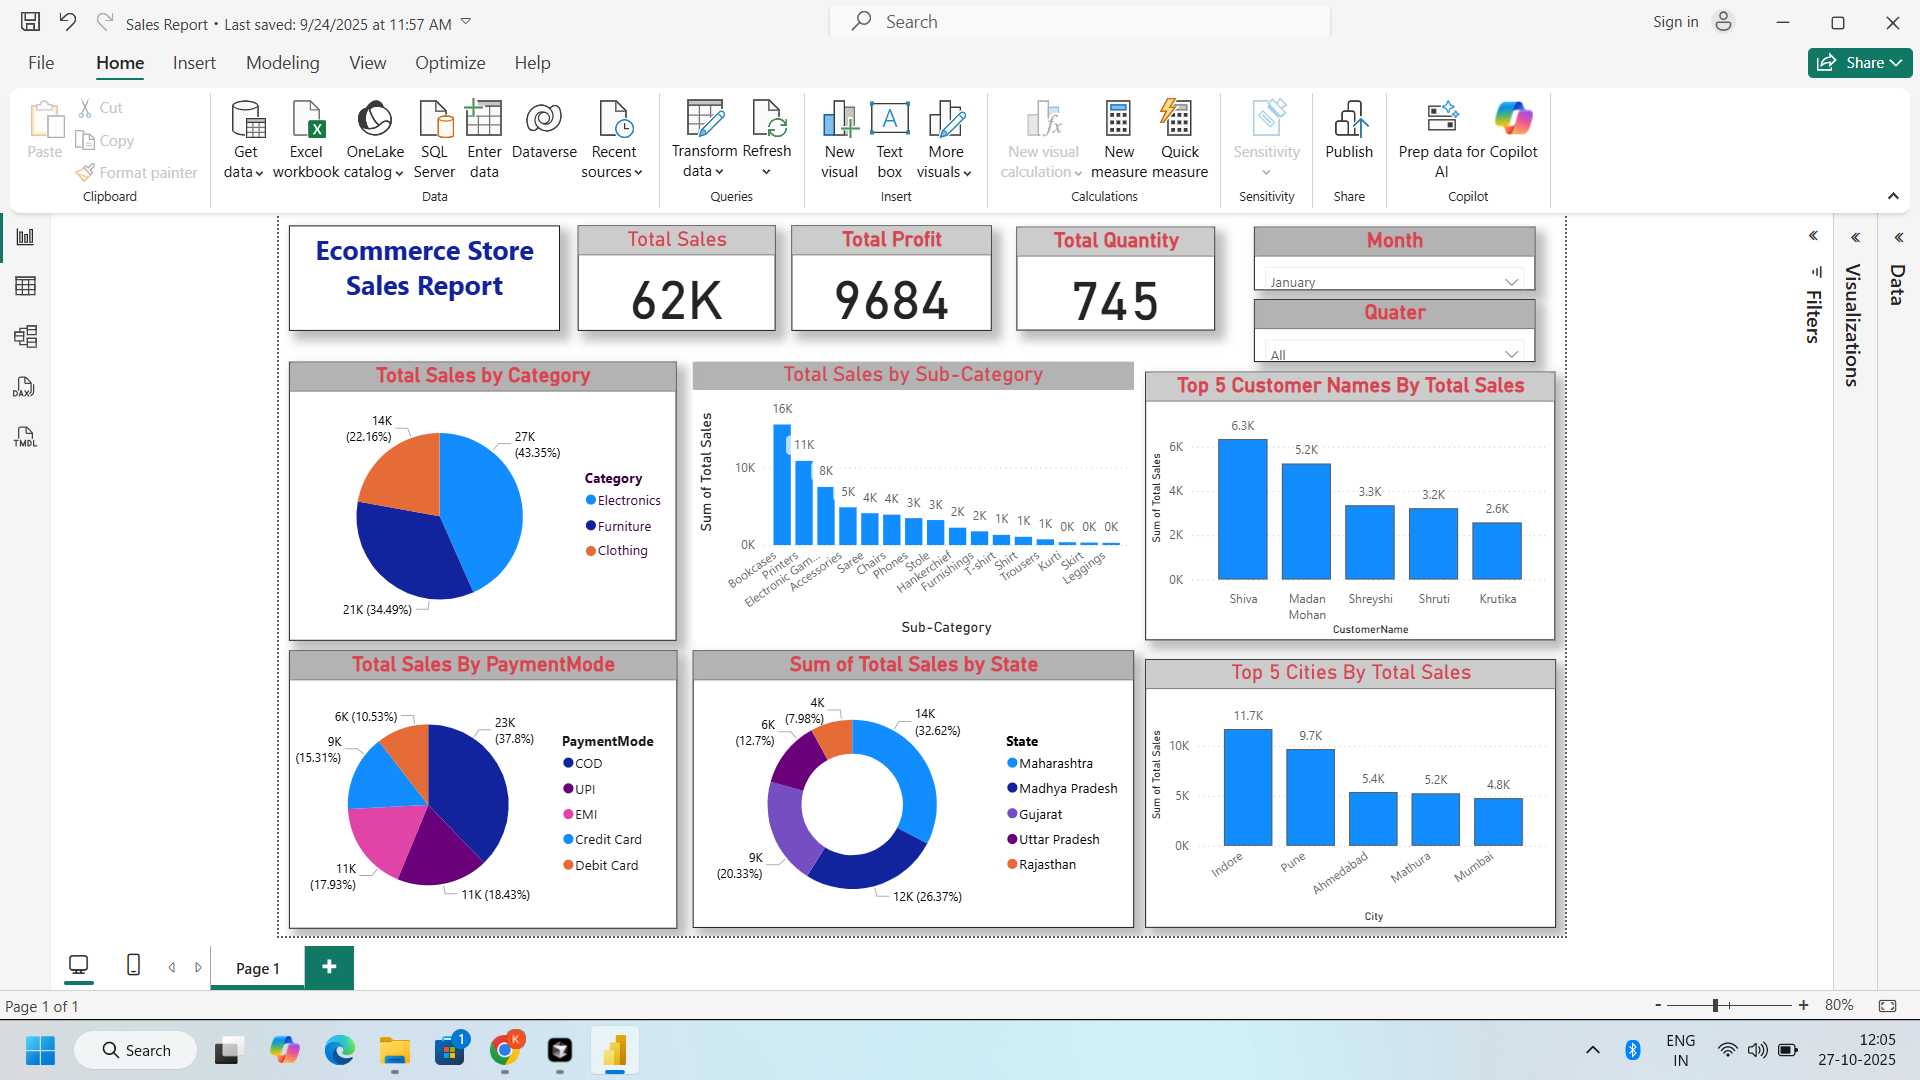

What the dashboard file says about the page in this screenshot:
{"tool":"powerbi","page":{"name":"Page 1","canvas":[1280,720],"ordinal":0},"visuals":[{"type":"textbox","box":[10,12.4,269.9,104.5],"z":0},{"type":"card","title":"Total Sales","fields":{"Values":["Sum(Datasets.Total Sales)"]},"box":[297.3,12.4,196.5,104.5],"z":1000},{"type":"card","title":"Total Profit","fields":{"Values":["Sum(Datasets.Profit)"]},"box":[510,12.4,199,104.5],"z":2000},{"type":"card","title":"Total Quantity","fields":{"Values":["Sum(Datasets.Quantity)"]},"box":[733.9,13.7,197.8,103.2],"z":3000},{"type":"slicer","title":"Month","fields":{"Values":["Datasets (2).Order Date.Variation.Date Hierarchy.Month"]},"box":[970.3,13.7,279.9,63.4],"z":4000},{"type":"slicer","title":"Quater","fields":{"Values":["Datasets (2).Order Date.Variation.Date Hierarchy.Month"]},"box":[970.3,85.8,279.9,62.2],"z":5000},{"type":"pieChart","title":"Total Sales by Category","fields":{"Y":["Sum(Datasets.Total Sales)"],"Category":["Datasets.Category"]},"box":[10,148,385.6,277.4],"z":6000},{"type":"columnChart","title":"Top 5 Customer Names By Total Sales","fields":{"Category":["Datasets (2).CustomerName"],"Y":["Sum(Datasets.Total Sales)"]},"box":[862.1,158,408,267.5],"z":7000},{"type":"pieChart","title":"Total Sales By PaymentMode","fields":{"Y":["Sum(Datasets.Total Sales)"],"Category":["Datasets.PaymentMode"]},"box":[10,435,386,277],"z":8000},{"type":"donutChart","fields":{"Category":["Datasets (2).State"],"Y":["Sum(Datasets.Total Sales)"]},"box":[411.8,435.4,439.1,276.2],"z":9000},{"type":"columnChart","title":"Top 5 Cities By Total Sales","fields":{"Category":["Datasets (2).City"],"Y":["Sum(Datasets.Total Sales)"]},"box":[862.4,444.2,408.6,267.4],"z":10000},{"type":"lineStackedColumnComboChart","title":"Total Sales by Sub-Category","fields":{"Y":["Sum(Datasets.Total Sales)"],"Category":["Datasets.Sub-Category"]},"box":[411.8,148,439.1,277.4],"z":11000}]}

Visuals, with their boxes on the page's 1280x720 design canvas (x1, y1, x2, y2). These are canvas units, not pixel positions in the 1920x1080 screenshot, which may show the page scaled, cropped or inside an application window:
textbox: [10, 12, 280, 117]
"Total Sales" card: [297, 12, 494, 117]
"Total Profit" card: [510, 12, 709, 117]
"Total Quantity" card: [734, 14, 932, 117]
"Month" slicer: [970, 14, 1250, 77]
"Quater" slicer: [970, 86, 1250, 148]
"Total Sales by Category" pieChart: [10, 148, 396, 425]
"Top 5 Customer Names By Total Sales" columnChart: [862, 158, 1270, 426]
"Total Sales By PaymentMode" pieChart: [10, 435, 396, 712]
donutChart - Datasets (2).State x Sum(Datasets.Total Sales): [412, 435, 851, 712]
"Top 5 Cities By Total Sales" columnChart: [862, 444, 1271, 712]
"Total Sales by Sub-Category" lineStackedColumnComboChart: [412, 148, 851, 425]
